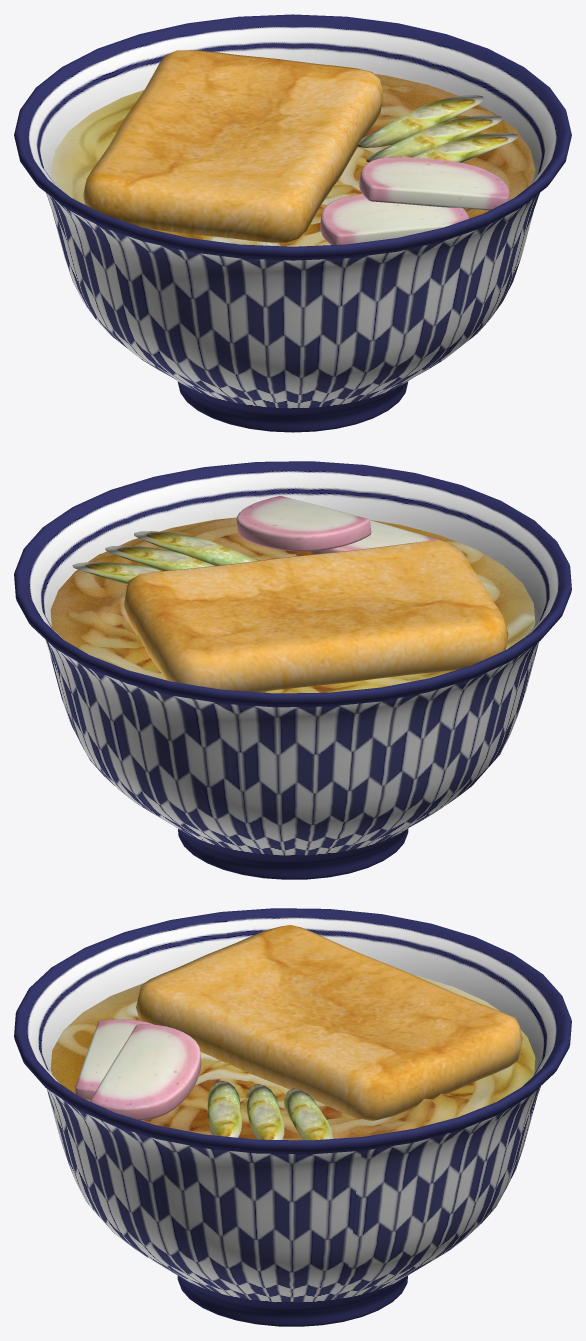
File: kitsuneudon.glb
The picture shows the model from 3 angles, top to bottom: view 1: azimuth 30°, elevation 25°; view 2: azimuth 150°, elevation 25°; view 3: azimuth 270°, elevation 25°; orthographic projection.
Parts seen in each view (by area): view 1: KitsuneUdon; view 2: KitsuneUdon; view 3: KitsuneUdon.
Part boxes in pixels (x1=…): KitsuneUdon: x1=14, y1=14, x2=571, y2=432; KitsuneUdon: x1=14, y1=461, x2=571, y2=879; KitsuneUdon: x1=14, y1=908, x2=571, y2=1326.
Size of the model in its own units: 0.177 by 0.0904 by 0.177.
2 materials, 2 textured.
